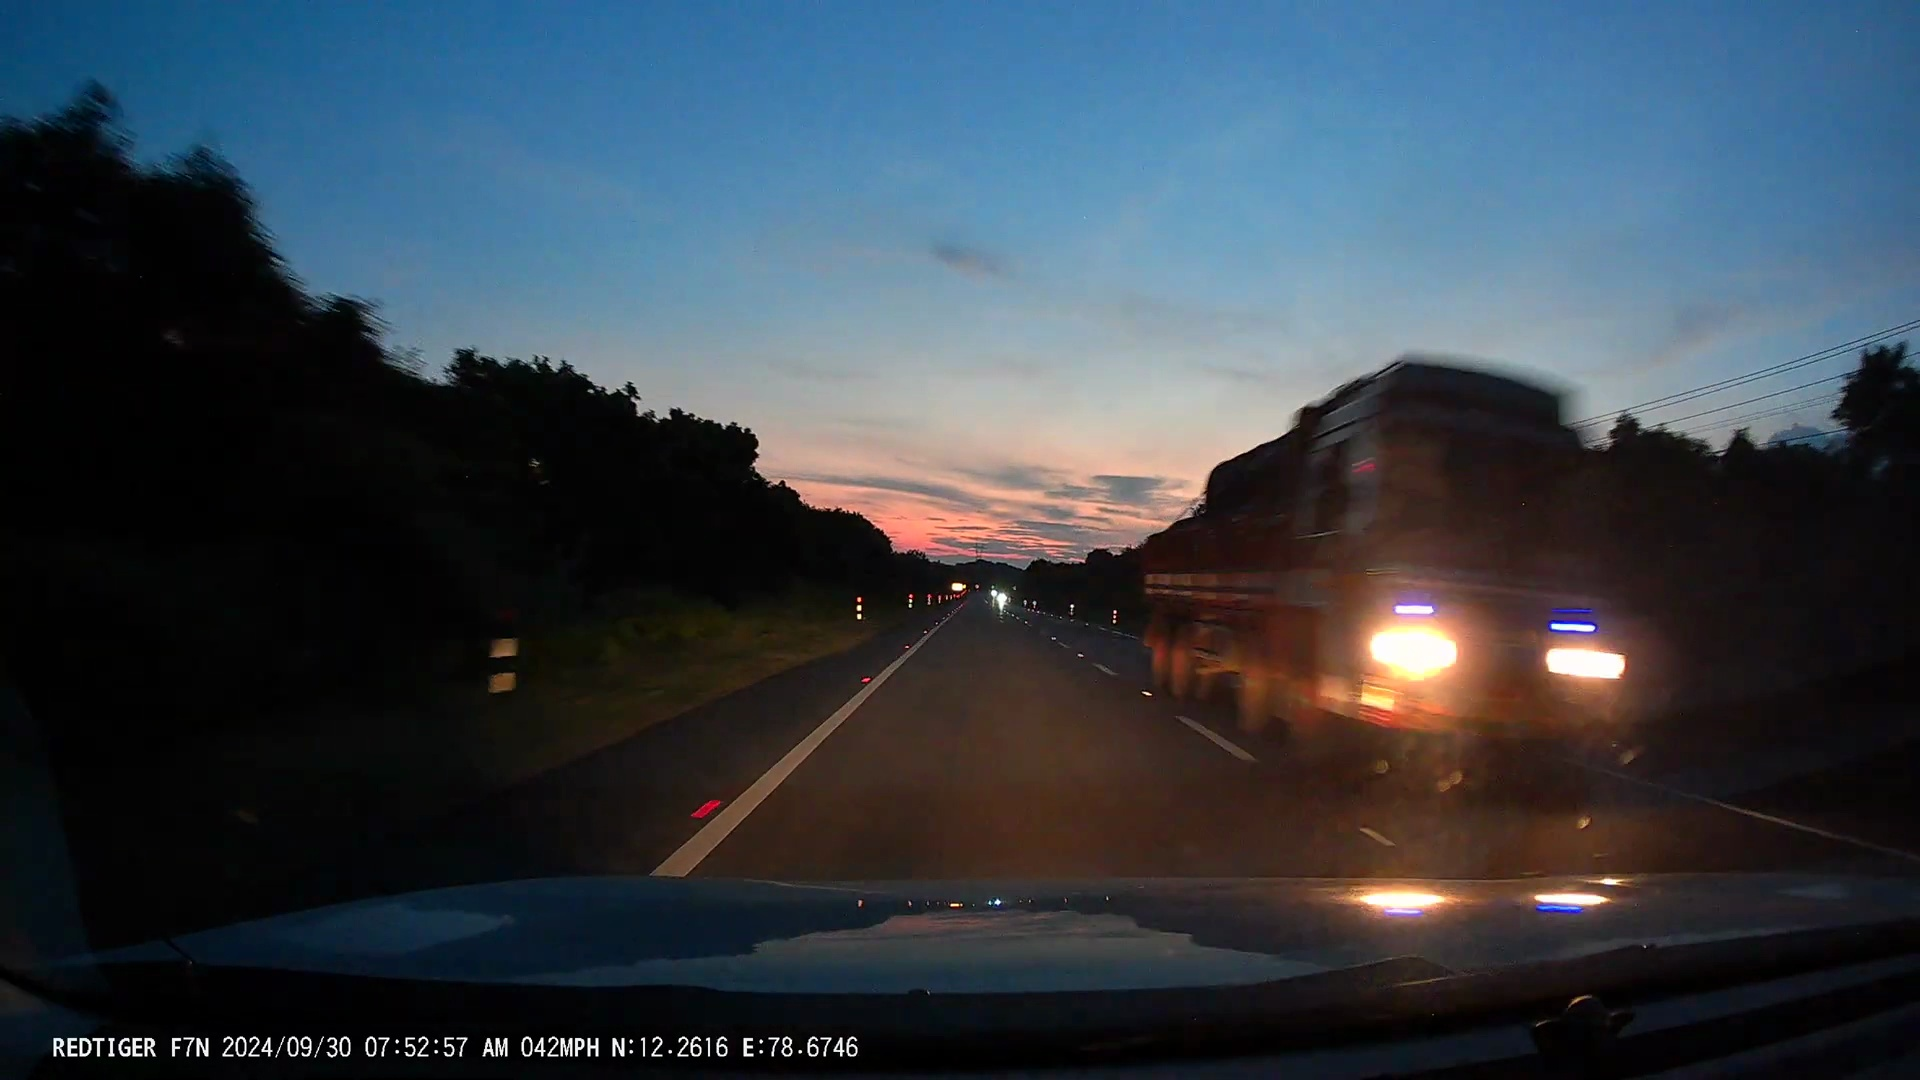four wheeler: (1096, 342, 1647, 783)
headlight: (1360, 615, 1451, 688), (1524, 630, 1626, 688), (998, 593, 1011, 607), (986, 589, 997, 597)
two wheeler: (982, 588, 1013, 615)
